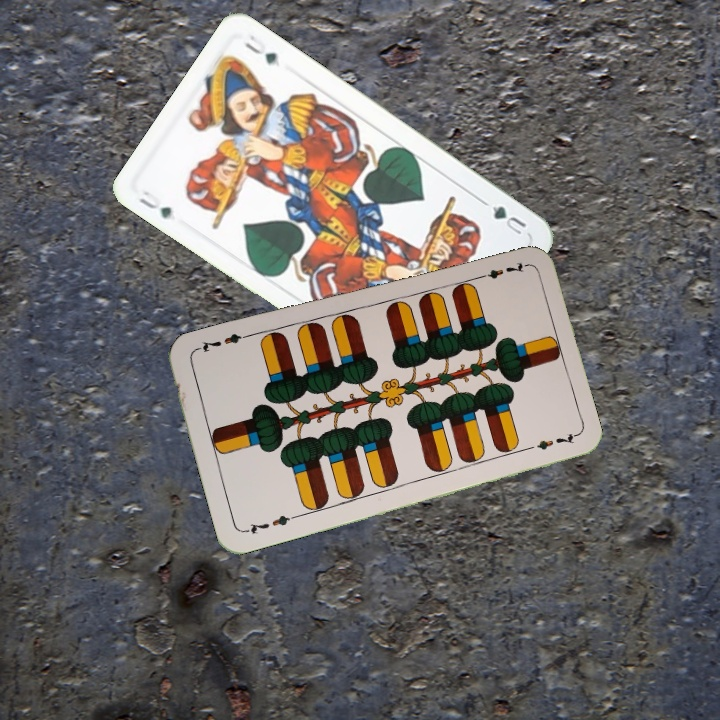E7: (240, 511, 298, 536), (471, 258, 529, 283)
GU: (488, 201, 529, 237), (134, 186, 175, 221)
